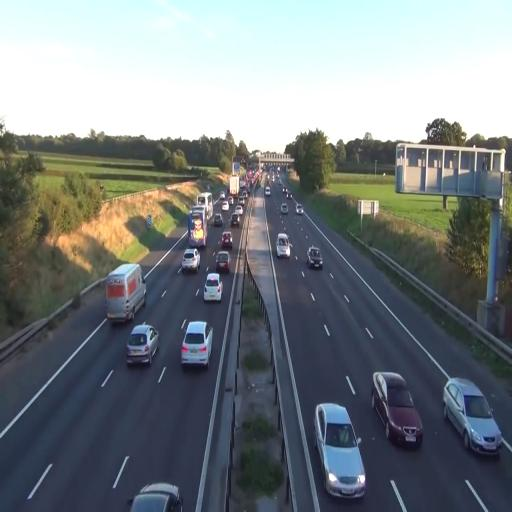vehicle: (314, 402, 366, 499), (443, 377, 501, 457), (371, 370, 424, 449), (105, 260, 146, 326), (106, 262, 145, 325), (129, 483, 182, 512), (181, 320, 213, 368), (125, 324, 159, 366), (188, 205, 207, 248), (202, 272, 222, 304), (182, 248, 200, 275), (214, 250, 232, 274), (307, 246, 323, 270), (276, 233, 291, 258), (232, 208, 244, 226)
